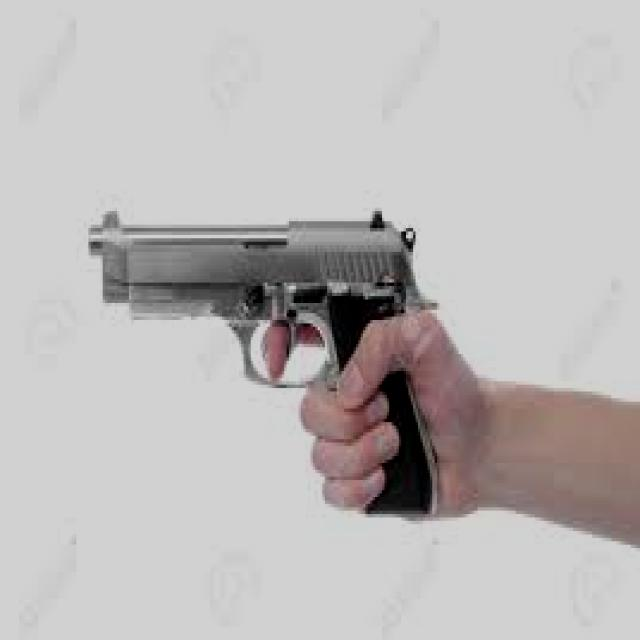pistol: (79, 191, 446, 531)
